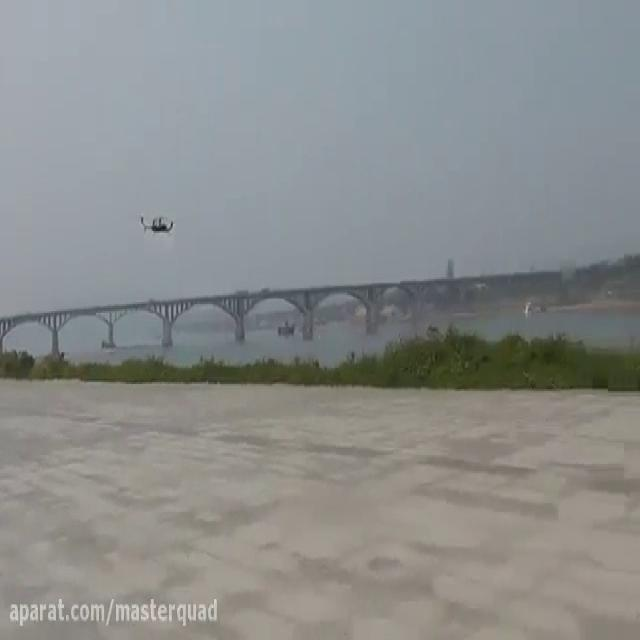drone: (138, 208, 178, 236)
